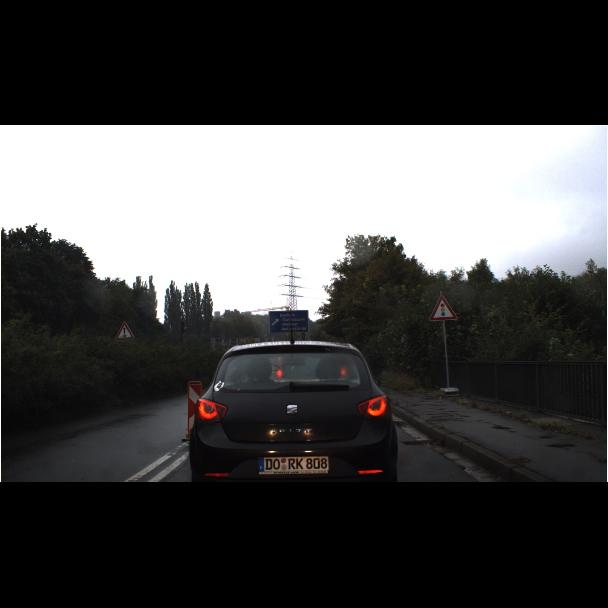danger: (114, 294, 458, 341)
